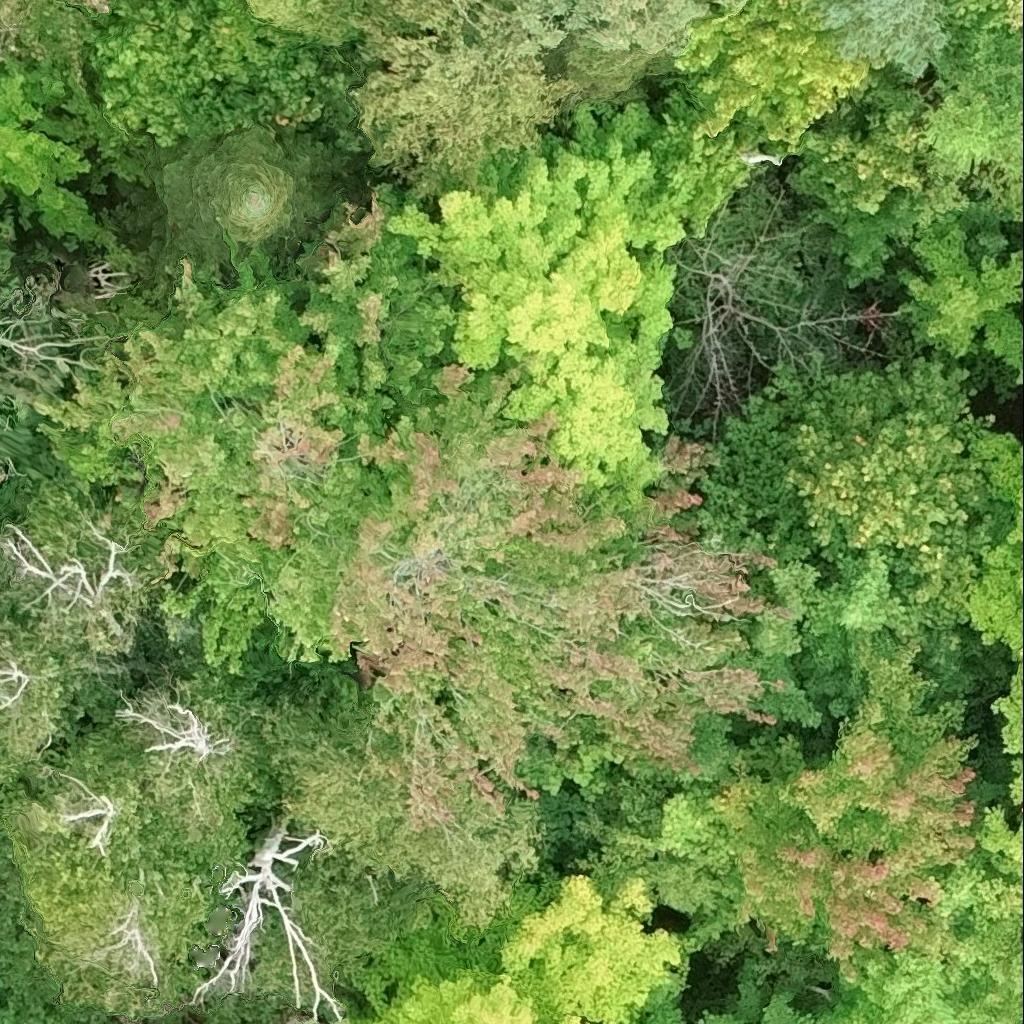crown: (358, 419, 815, 832), (31, 241, 387, 678), (394, 90, 752, 478), (268, 357, 554, 660), (700, 360, 996, 616), (578, 779, 940, 977), (748, 643, 979, 871), (815, 808, 1023, 1023), (22, 820, 222, 1021), (296, 186, 469, 417), (357, 5, 571, 184), (108, 670, 281, 871), (465, 875, 685, 1023), (0, 478, 164, 675), (156, 124, 337, 283), (676, 0, 873, 137), (0, 722, 146, 899), (94, 0, 247, 157), (349, 906, 539, 1023), (897, 222, 1023, 384), (190, 44, 373, 155), (679, 225, 785, 411), (0, 616, 87, 801), (964, 427, 1023, 655), (516, 0, 749, 56), (981, 648, 1023, 893), (814, 0, 947, 75), (0, 392, 62, 523), (362, 0, 517, 38), (698, 978, 815, 1023), (241, 0, 367, 38), (558, 1009, 607, 1023), (0, 279, 19, 308)
